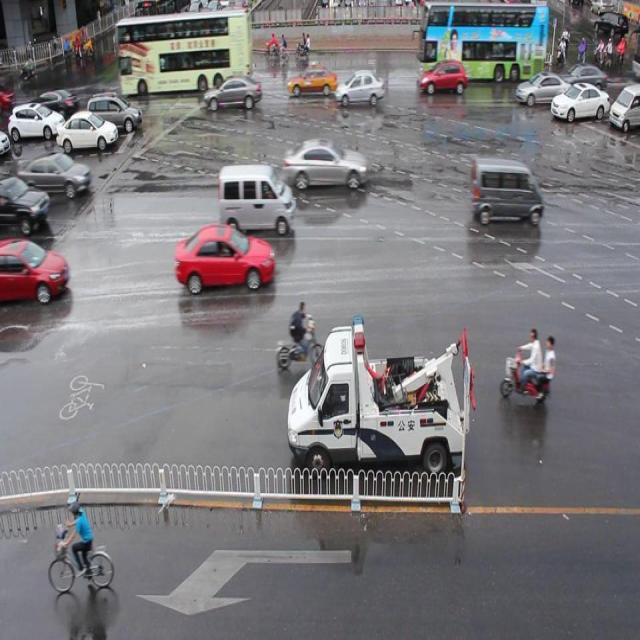BigCar: (419, 0, 547, 79), (108, 15, 251, 83)
car: (286, 315, 460, 461), (173, 224, 275, 296), (215, 160, 295, 241), (471, 156, 548, 240), (285, 138, 372, 202), (0, 234, 73, 306), (0, 167, 51, 229), (29, 150, 88, 198), (56, 110, 117, 154), (88, 88, 146, 132), (551, 82, 610, 124), (207, 76, 269, 115), (337, 72, 388, 114), (9, 107, 59, 144), (415, 63, 466, 99), (517, 72, 566, 108), (612, 79, 640, 133), (288, 70, 338, 99)
